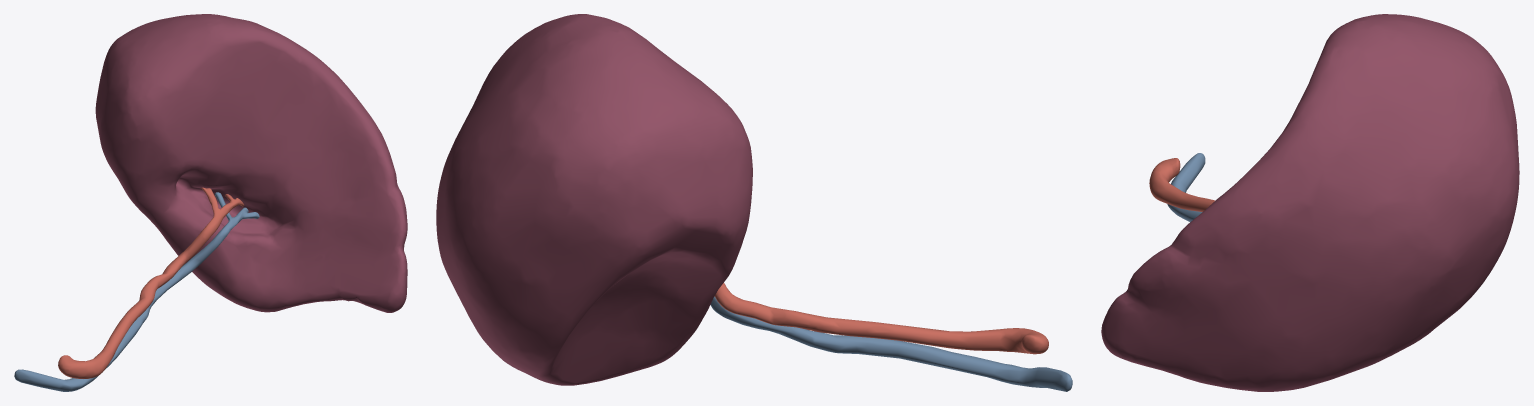
The model's file is spleen.glb.
3 renders of one model, left to right at view 1: azimuth 30°, elevation 25°; view 2: azimuth 150°, elevation 25°; view 3: azimuth 270°, elevation 25°, orthographic. The views are drawn at different scales.
Parts seen in each view (by area): view 1: spleen, splenic-artery, splenic-vein; view 2: spleen, splenic-artery, splenic-vein; view 3: spleen, splenic-artery, splenic-vein.
Part boxes in pixels (x1,y1,x2,y2): spleen: (95, 14, 407, 312); splenic-artery: (58, 187, 244, 378); splenic-vein: (14, 192, 259, 391); spleen: (436, 14, 752, 385); splenic-artery: (714, 283, 1048, 354); splenic-vein: (710, 296, 1072, 391); spleen: (1101, 14, 1519, 391); splenic-artery: (1149, 158, 1215, 211); splenic-vein: (1167, 153, 1205, 222).
Bounding box in the file's own units: 2.58 × 1.67 × 1.99.
